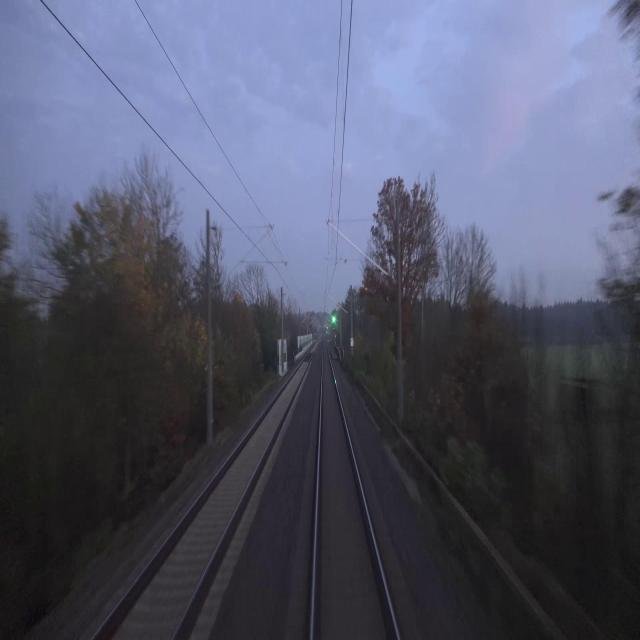rail-track: (95, 351, 311, 639), (315, 345, 396, 639)
